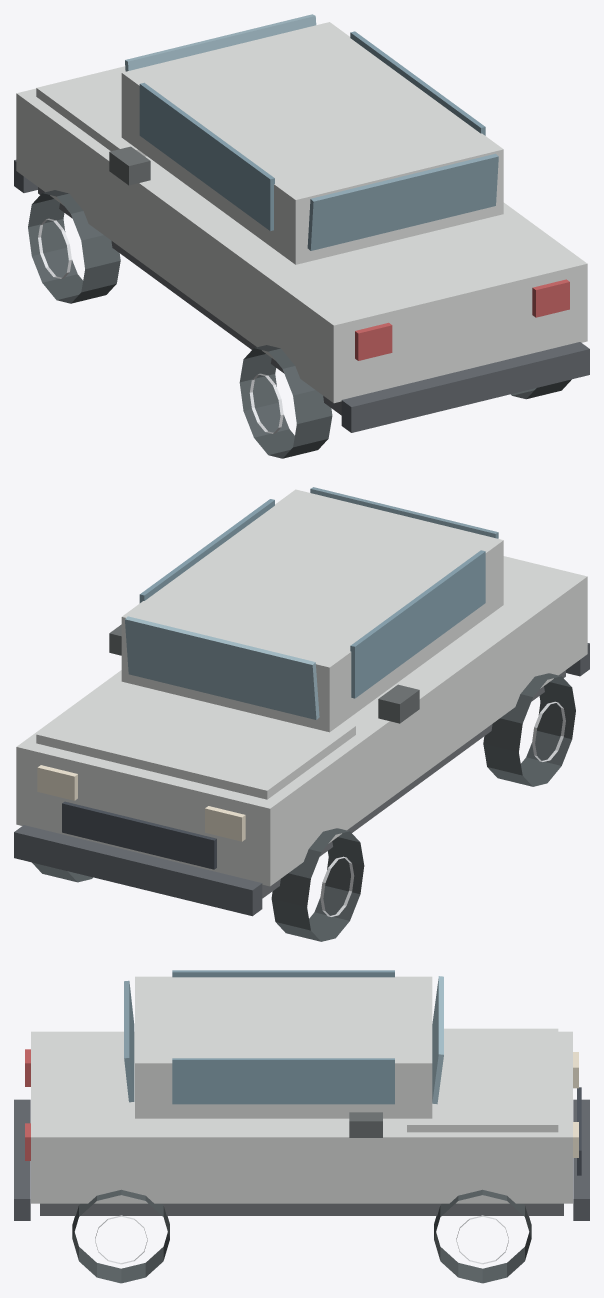
The model's file is palio.glb.
3 renders of one model, top to bottom at view 1: azimuth 30°, elevation 25°; view 2: azimuth 150°, elevation 25°; view 3: azimuth 270°, elevation 25°, orthographic. The views are drawn at different scales.
Parts seen in each view (by area): view 1: painted_body, cabin, tire (×2), rear_glass, side_window (×2), rear_bumper, hood, windshield, taillight (×2), chassis, mirror; view 2: painted_body, cabin, hood, tire (×2), windshield, side_window (×2), front_bumper, grille, headlight (×2), chassis, rear_glass, mirror; view 3: painted_body, cabin, hood, side_window (×2), chassis, tire (×2), rear_bumper, front_bumper, windshield, rear_glass, mirror.
Part boxes in pixels (<box>): painted_body: <box>16,88,587,403</box>; cabin: <box>121,22,503,264</box>; tire (×2): <box>28,190,332,458</box>; rear_glass: <box>307,153,498,250</box>; side_window (×2): <box>139,31,485,230</box>; rear_bumper: <box>341,342,589,432</box>; hood: <box>36,66,146,156</box>; windshield: <box>125,14,316,71</box>; taillight (×2): <box>355,279,569,360</box>; chassis: <box>38,187,341,415</box>; mirror: <box>109,146,150,185</box>; painted_body: <box>16,556,587,886</box>; cabin: <box>121,489,503,732</box>; hood: <box>36,672,355,799</box>; tire (×2): <box>271,673,575,941</box>; windshield: <box>125,616,319,719</box>; side_window (×2): <box>139,499,485,698</box>; front_bumper: <box>14,825,262,916</box>; grille: <box>62,801,216,869</box>; headlight (×2): <box>37,765,245,841</box>; chassis: <box>262,670,565,898</box>; rear_glass: <box>310,487,498,538</box>; mirror: <box>378,684,419,723</box>; painted_body: <box>31,1031,572,1203</box>; cabin: <box>135,976,432,1118</box>; hood: <box>407,1028,558,1132</box>; side_window (×2): <box>172,970,394,1104</box>; chassis: <box>40,1203,563,1215</box>; tire (×2): <box>72,1189,531,1283</box>; rear_bumper: <box>14,1099,30,1220</box>; front_bumper: <box>573,1099,589,1220</box>; windshield: <box>432,976,443,1104</box>; rear_glass: <box>124,980,134,1102</box>; mirror: <box>349,1112,382,1137</box>.
Bounding box in the file's own units: 1.88 × 1.52 × 3.78.
